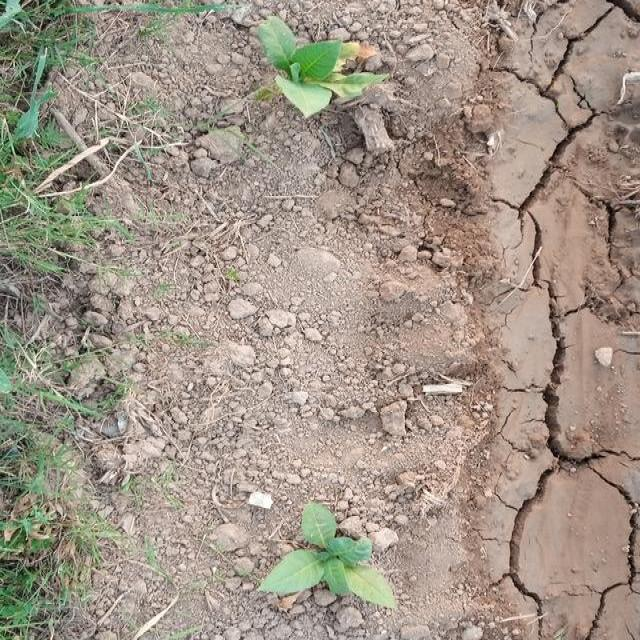crop: (267, 507, 393, 609), (258, 25, 371, 125)
